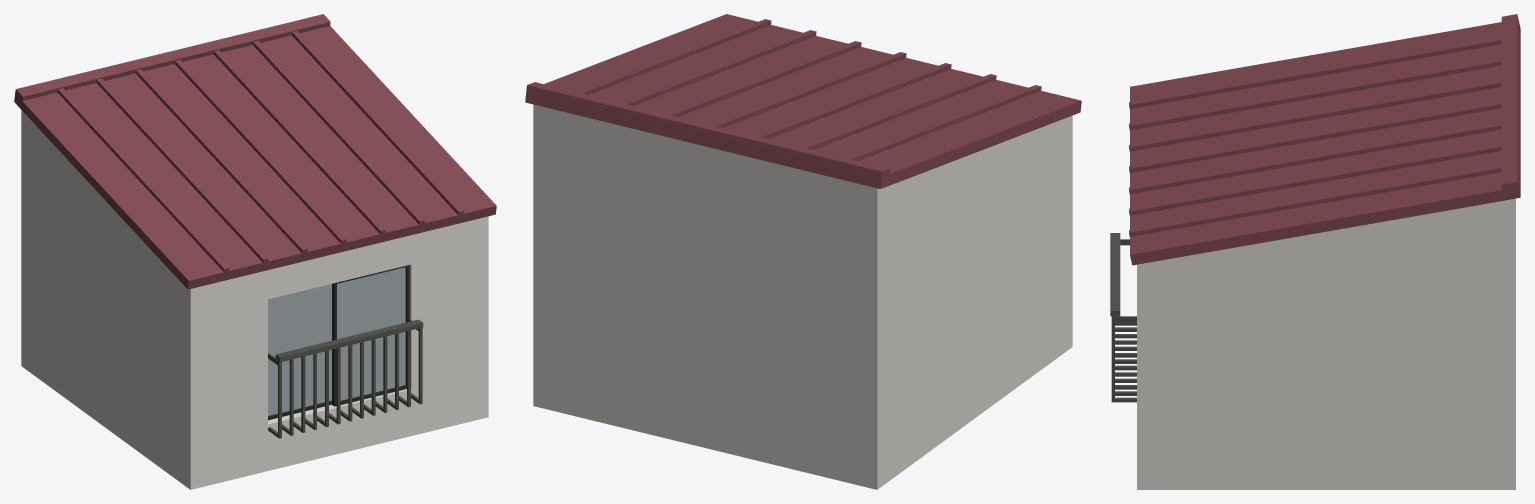
File: house1.fbx
3 views of the same model, side by side, from view 1: azimuth 30°, elevation 25°; view 2: azimuth 150°, elevation 25°; view 3: azimuth 270°, elevation 25° (orthographic). The views are drawn at different scales.
Parts seen in each view (by area): view 1: polySurface36, polySurface35, pCube42, polySurface38, windowfence, polySurface39; view 2: polySurface36, polySurface35, pCube42; view 3: polySurface36, polySurface35, pCube42, windowfence.
Part boxes in pixels (x1,y1,x2,y2): polySurface36: (21,110,488,489); polySurface35: (14,14,496,289); pCube42: (57,31,463,274); polySurface38: (268,267,405,415); windowfence: (268,319,423,438); polySurface39: (268,265,409,420); polySurface36: (533,104,1072,489); polySurface35: (525,14,1081,188); pCube42: (576,19,1041,160); polySurface36: (1137,198,1515,489); polySurface35: (1130,14,1520,265); pCube42: (1129,37,1501,236); windowfence: (1110,233,1136,402).
Size of the model in its own units: 39.44 by 33.97 by 40.71.
